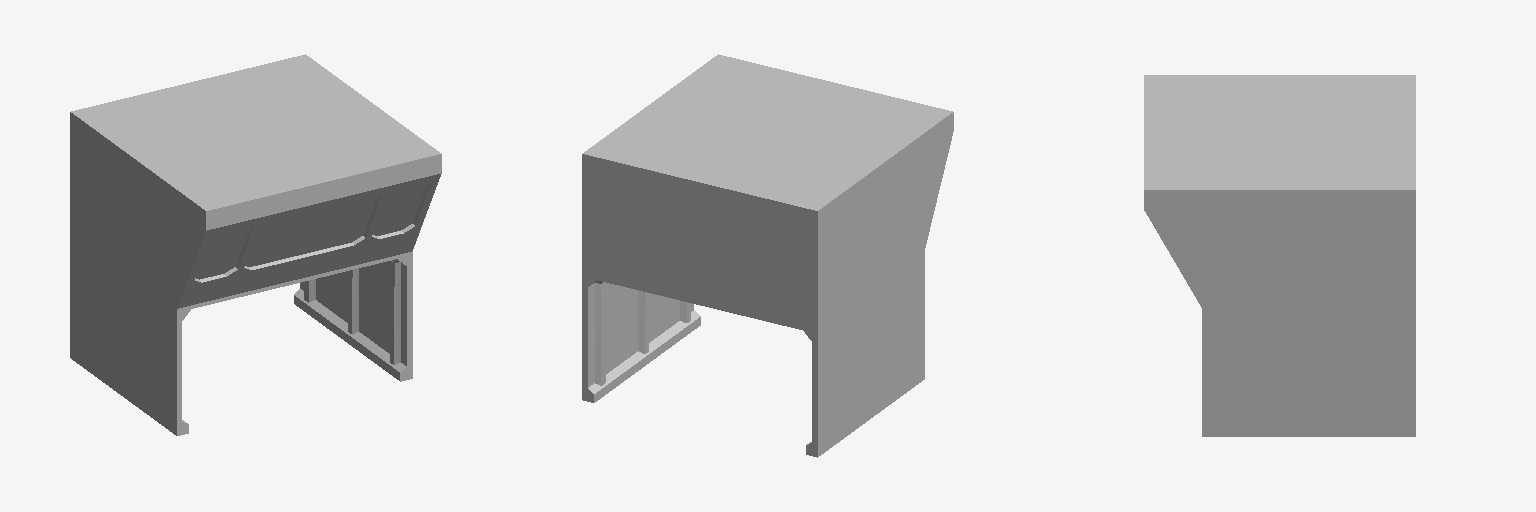
Rendered from SciFi_Building_Large09.obj.
3 views of the same model, side by side, from view 1: azimuth 30°, elevation 25°; view 2: azimuth 150°, elevation 25°; view 3: azimuth 270°, elevation 25° (orthographic).
Visible parts, largest first — view 1: SM_Bld_Security_WatchStation_01, SM_Bld_Security_WatchStation_01.001, SM_Bld_Security_WatchStation_01.002; view 2: SM_Bld_Security_WatchStation_01, SM_Bld_Security_WatchStation_01.001, SM_Bld_Security_WatchStation_01.002; view 3: SM_Bld_Security_WatchStation_01, SM_Bld_Security_WatchStation_01.002.
Boxes of the visible parts, x1,y1,x2,y2 form: SM_Bld_Security_WatchStation_01: [70, 54, 441, 322]; SM_Bld_Security_WatchStation_01.001: [70, 245, 188, 435]; SM_Bld_Security_WatchStation_01.002: [294, 261, 412, 381]; SM_Bld_Security_WatchStation_01: [582, 54, 953, 343]; SM_Bld_Security_WatchStation_01.001: [806, 266, 924, 457]; SM_Bld_Security_WatchStation_01.002: [582, 282, 700, 402]; SM_Bld_Security_WatchStation_01: [1144, 75, 1415, 322]; SM_Bld_Security_WatchStation_01.002: [1202, 323, 1415, 436].
Bounding box in the file's own units: 1 × 1 × 1.